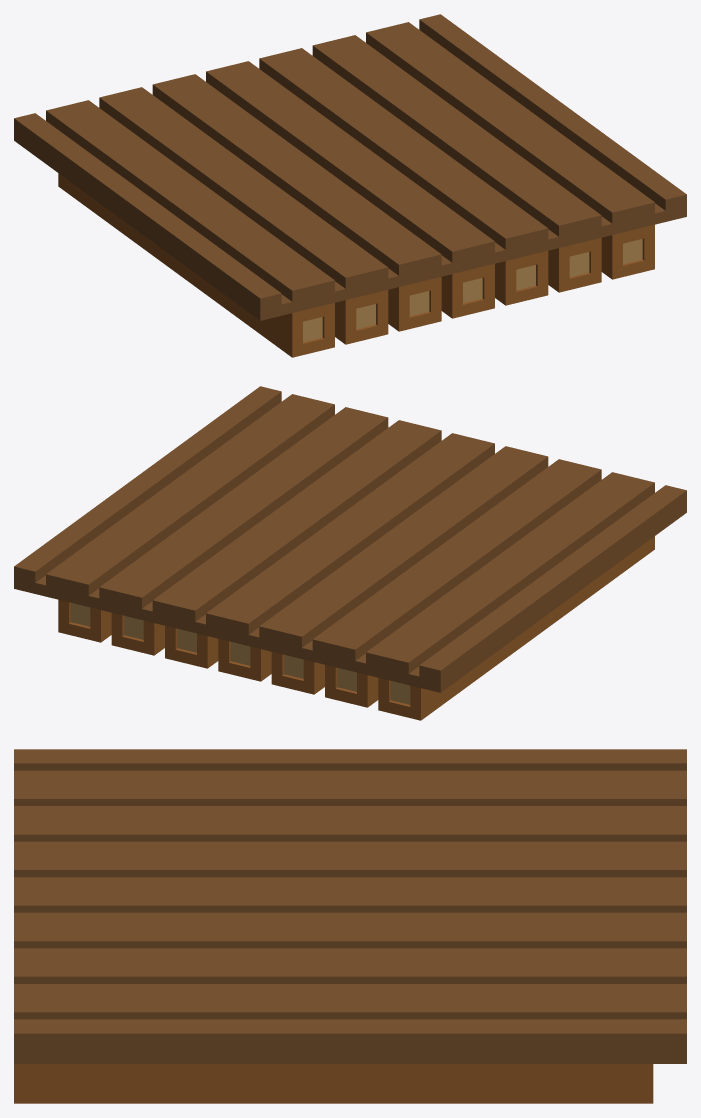
File: Platform.fbx
The picture shows the model from 3 angles, top to bottom: view 1: azimuth 30°, elevation 25°; view 2: azimuth 150°, elevation 25°; view 3: azimuth 270°, elevation 25°; orthographic projection. The views are drawn at different scales.
Visible parts, largest first — view 1: Platform; view 2: Platform; view 3: Platform.
Part boxes in pixels (box(x1,y1,x2,y2)): Platform: box(14, 14, 686, 357); Platform: box(14, 386, 686, 720); Platform: box(14, 749, 686, 1103).
Size of the model in its own units: 296 by 44.34 by 296.
